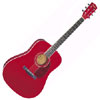guitar: (3, 2, 98, 98)
